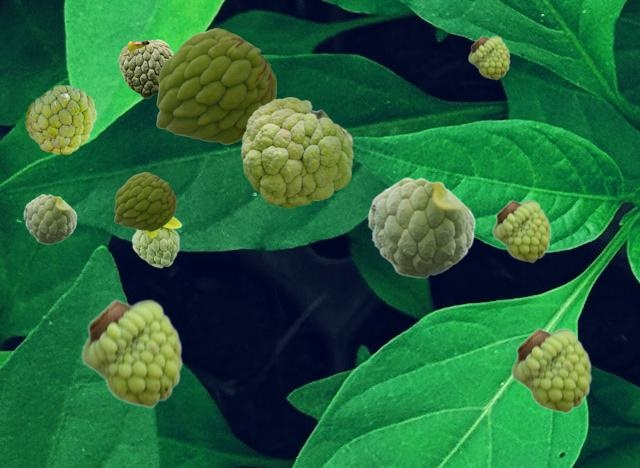atis: (156, 28, 275, 143), (241, 97, 352, 207), (81, 298, 182, 408), (367, 177, 475, 277), (511, 327, 591, 413), (25, 85, 95, 153), (492, 199, 550, 262), (114, 172, 175, 230), (118, 39, 173, 97), (23, 194, 76, 243), (131, 216, 181, 267), (468, 35, 509, 79)
